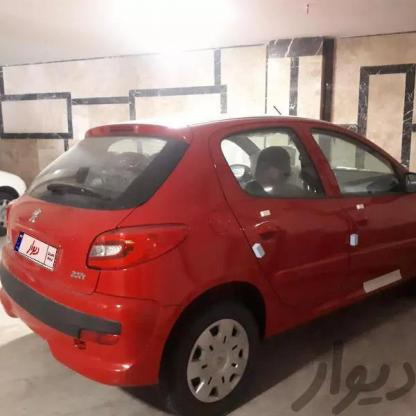Car: (0, 101, 416, 416)
